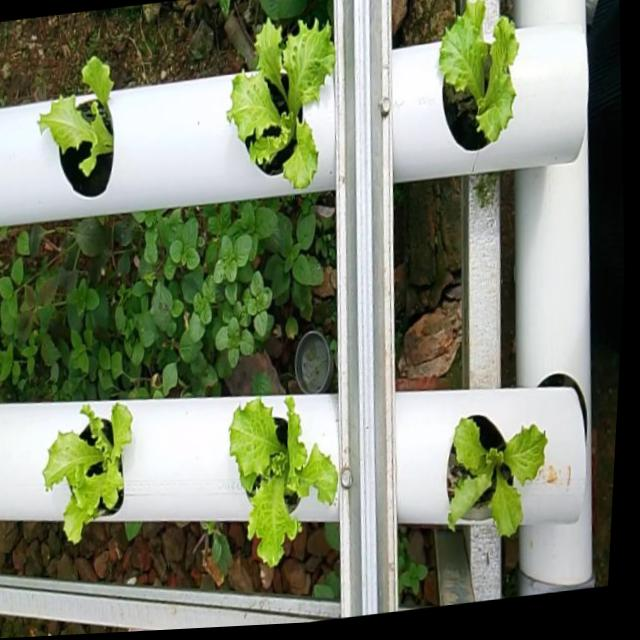Baby: (227, 7, 335, 189), (229, 396, 338, 567), (446, 414, 548, 537), (43, 404, 132, 544), (440, 0, 519, 151), (39, 58, 114, 199)
